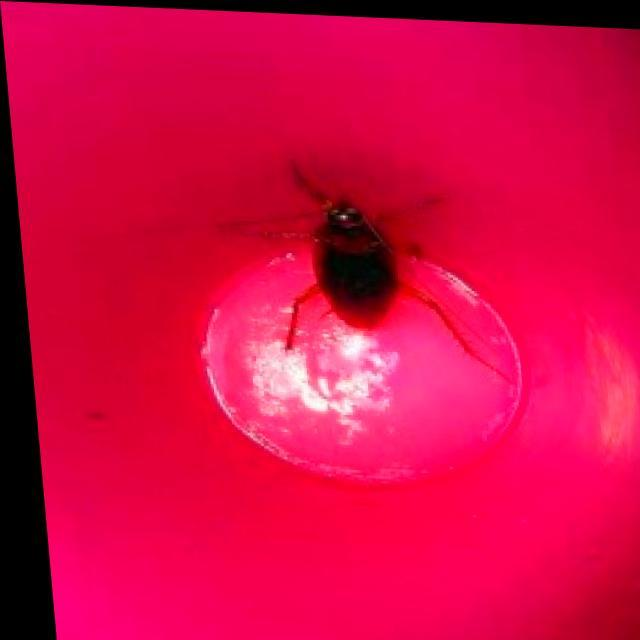cockroach: (277, 166, 446, 363)
